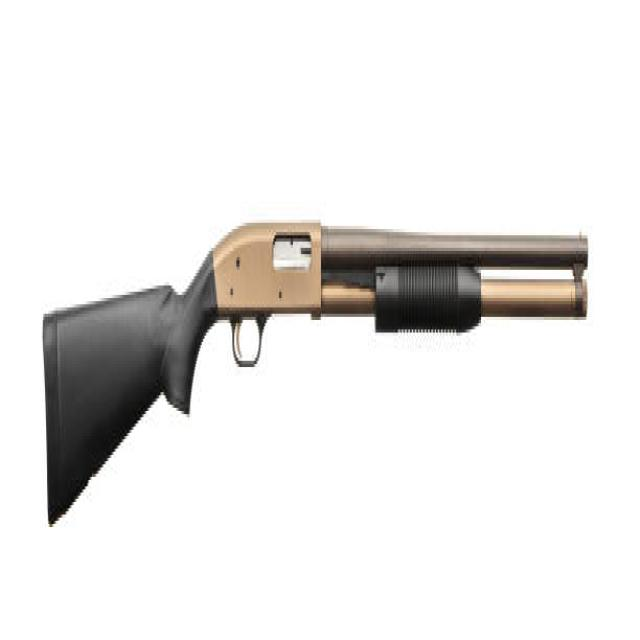rifle: (41, 221, 591, 527)
